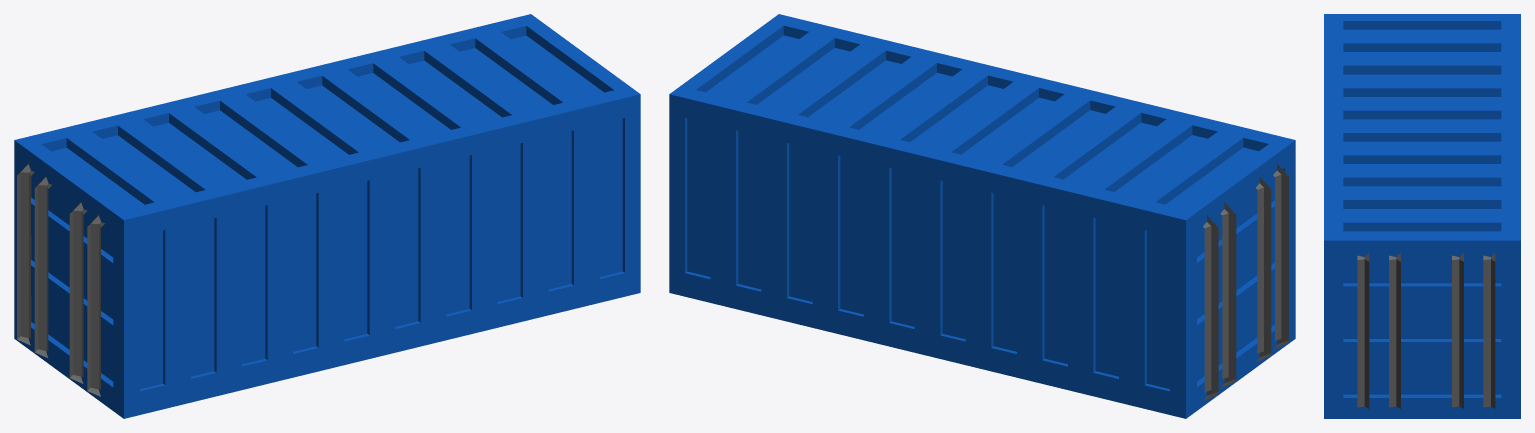
Rendered from container_02.glb.
3 views of the same model, side by side, from view 1: azimuth 30°, elevation 25°; view 2: azimuth 150°, elevation 25°; view 3: azimuth 270°, elevation 25° (orthographic). The views are drawn at different scales.
Parts seen in each view (by area): view 1: Container_02; view 2: Container_02; view 3: Container_02.
Boxes of the visible parts, x1,y1,x2,y2 form: Container_02: [14, 14, 640, 418]; Container_02: [669, 14, 1295, 418]; Container_02: [1324, 14, 1520, 418].
Bounding box in the file's own units: 12.2 × 4.25 × 4.25.
